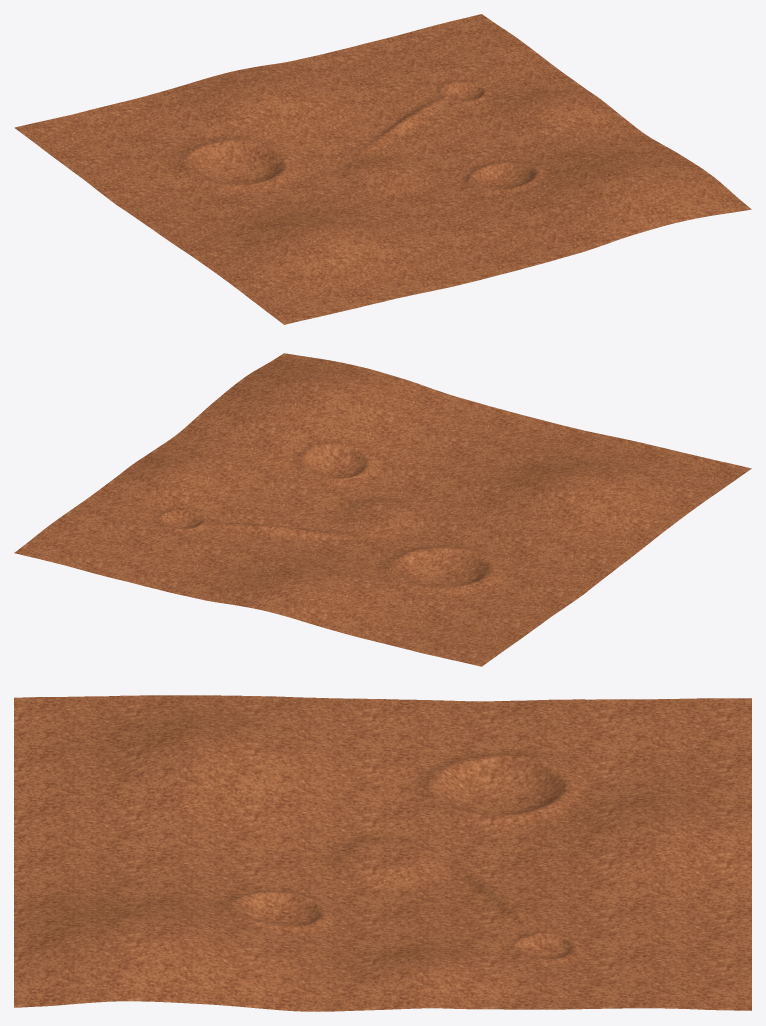
The model's file is terrain.dae.
The picture shows the model from 3 angles, top to bottom: view 1: azimuth 30°, elevation 25°; view 2: azimuth 150°, elevation 25°; view 3: azimuth 270°, elevation 25°; orthographic projection. The views are drawn at different scales.
Visible parts, largest first — view 1: terrain; view 2: terrain; view 3: terrain.
Part boxes in pixels (<box>): terrain: <box>14,14,751,324</box>; terrain: <box>14,353,751,666</box>; terrain: <box>14,695,751,1011</box>.
Size of the model in its own units: 100 by 100 by 6.21.
1 material, 1 textured.
